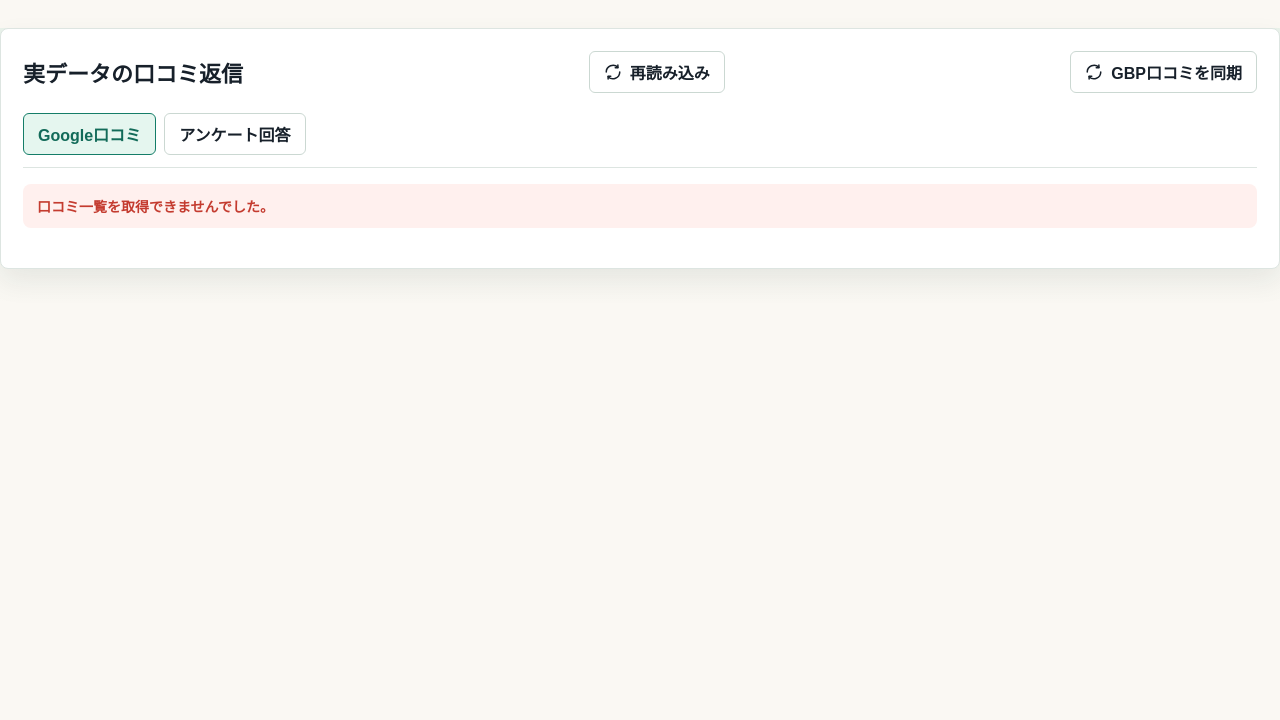
it: real component -> API -> OAuth/Google -> persistence -> list workflow › reports a database failure and recovers through an explicit reload without Google requests
Expected: the text "口コミ一覧を取得できませんでした。" is shown, [23,184,1257,228]
What coordinates should you click on to do the following:
click the button "再読み込み"
I would click on:
 (657, 72)
Its box is [589,51,725,93].
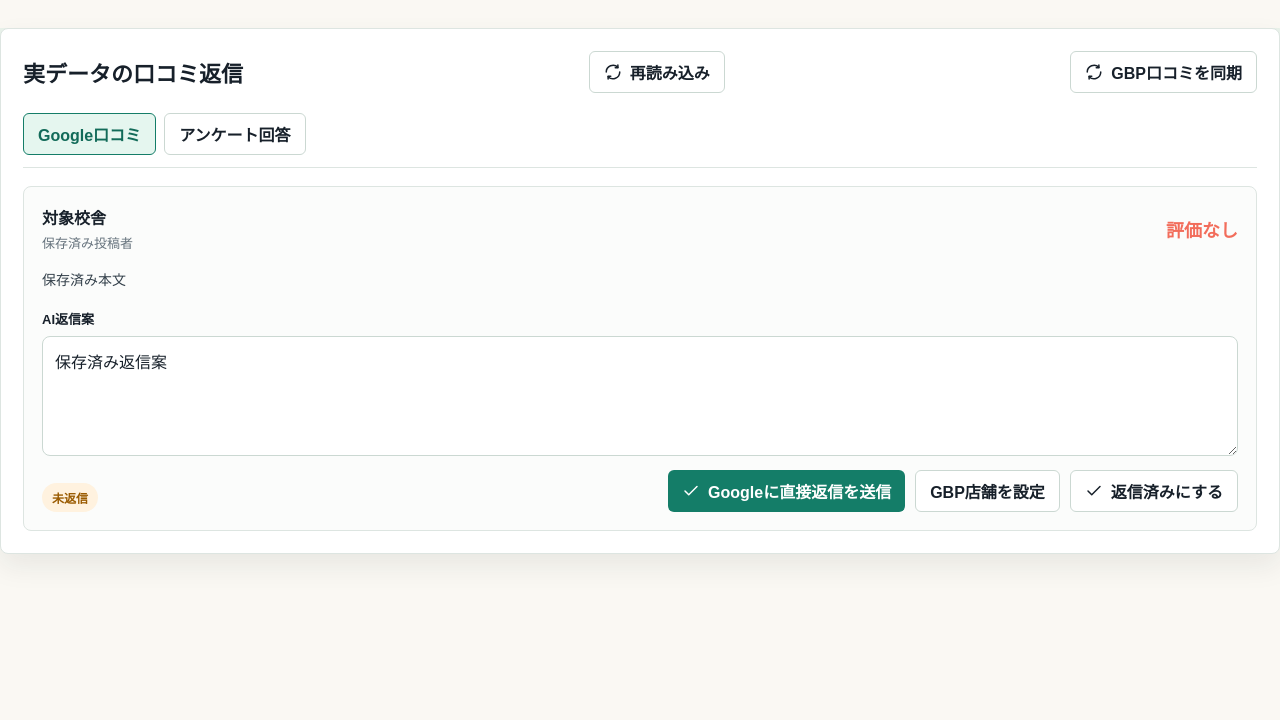
Expected: the text "保存済み投稿者" is shown, [42,233,133,252]
Expected: the text "口コミ一覧を取得できませんでした。" is gone
Expected: the text box labelled "AI返信案" holds "保存済み返信案", [42,336,1238,456]
